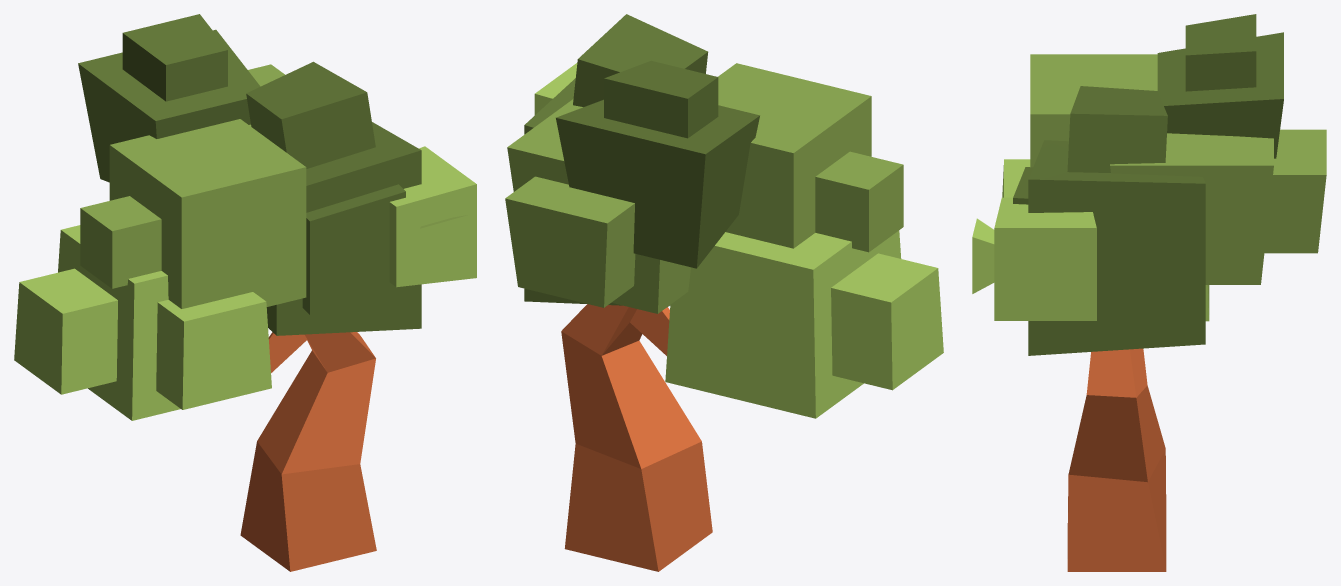
Rendered from tree2.fbx.
The picture shows the model from 3 angles, left to right: view 1: azimuth 30°, elevation 25°; view 2: azimuth 150°, elevation 25°; view 3: azimuth 270°, elevation 25°; orthographic projection. The views are drawn at different scales.
Visible parts, largest first — view 1: pCube13, pCube12, pCube11, pCube9, pCube10, pCube15; view 2: pCube12, pCube9, pCube10, pCube13, pCube14, pCube11, pCube15; view 3: pCube11, pCube9, pCube14, pCube10, pCube15, pCube13, pCube12.
Part boxes in pixels (x1=…): pCube13: x1=80, y1=119, x2=306, y2=308; pCube12: x1=14, y1=225, x2=271, y2=420; pCube11: x1=246, y1=61, x2=421, y2=335; pCube9: x1=240, y1=332, x2=376, y2=571; pCube10: x1=78, y1=14, x2=260, y2=182; pCube15: x1=389, y1=146, x2=476, y2=287; pCube12: x1=665, y1=230, x2=943, y2=418; pCube9: x1=561, y1=304, x2=712, y2=571; pCube10: x1=556, y1=60, x2=759, y2=268; pCube13: x1=718, y1=63, x2=903, y2=252; pCube14: x1=505, y1=99, x2=690, y2=313; pCube11: x1=524, y1=14, x2=708, y2=306; pCube15: x1=534, y1=63, x2=577, y2=115; pCube11: x1=1013, y1=86, x2=1205, y2=355; pCube9: x1=1067, y1=348, x2=1166, y2=571; pCube14: x1=1110, y1=129, x2=1326, y2=284; pCube10: x1=1157, y1=14, x2=1283, y2=158; pCube15: x1=972, y1=197, x2=1096, y2=320; pCube13: x1=1030, y1=54, x2=1157, y2=167; pCube12: x1=1002, y1=159, x2=1209, y2=321.
Size of the model in its own units: 235 by 295 by 197.
